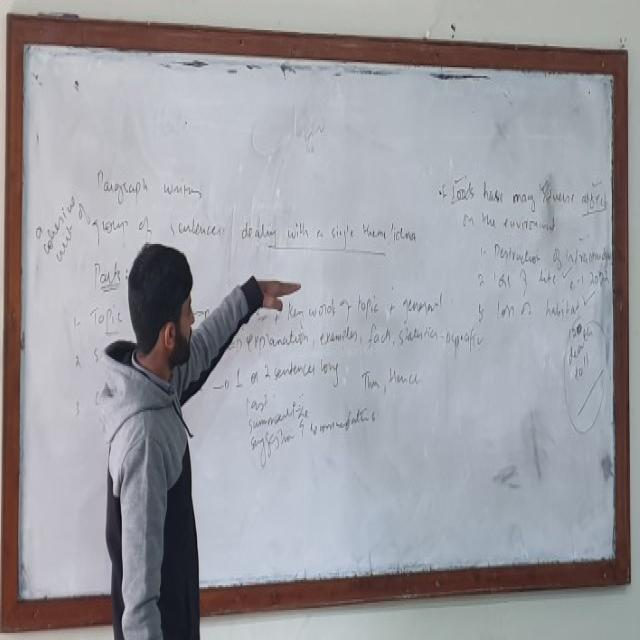Instructor: (90, 211, 209, 640)
White-board: (10, 26, 622, 618)
